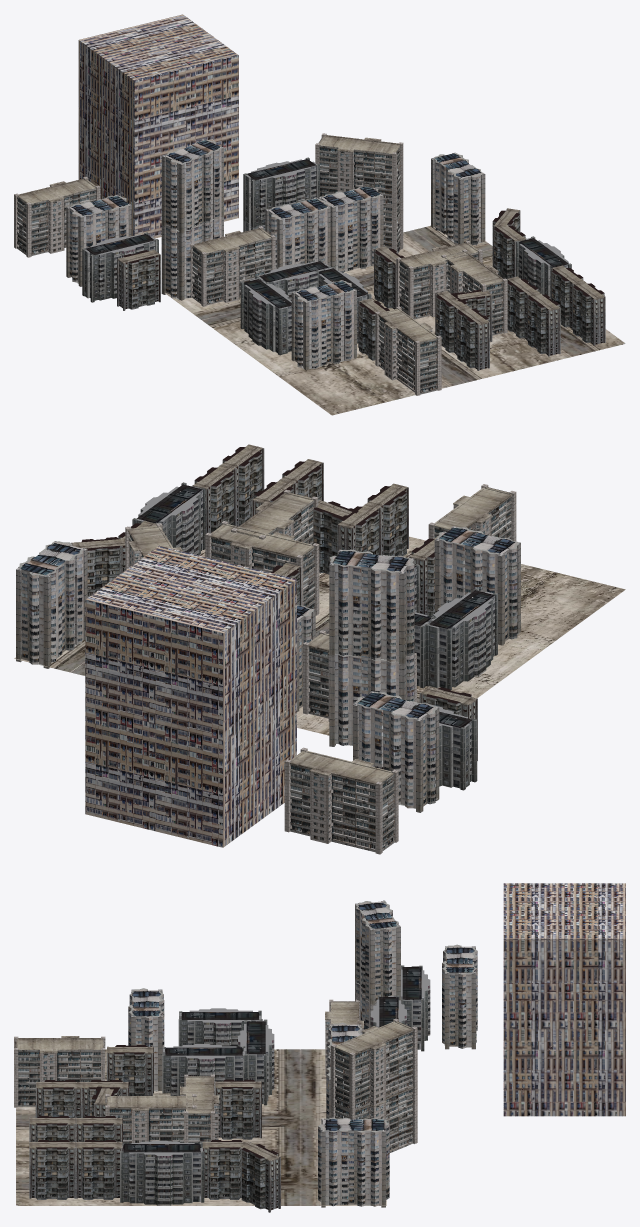
Rendered from street.fbx.
The picture shows the model from 3 angles, top to bottom: view 1: azimuth 30°, elevation 25°; view 2: azimuth 150°, elevation 25°; view 3: azimuth 270°, elevation 25°; orthographic projection. The views are drawn at different scales.
Parts seen in each view (by area): view 1: Plane.015, Plane.002, Plane.008, Plane.014, Cube.001, Cube.019, Cube.002, Plane.012, Cube.004, Plane.004, Plane.003, Plane.011 (+21 smaller); view 2: Plane.015, Cube.004, Plane.002, Plane.014, Plane.012, Plane, Plane.008, Plane.007, Plane.013, Cube.011, Plane.006, Cube.002 (+16 smaller); view 3: Plane.015, Plane.002, Plane.012, Cube.019, Plane.006, Cube.002, Plane.014, Plane, Cube.012, Plane.005, Cube.010, Cube.003 (+18 smaller).
Boxes of the visible parts, left/top/right/bottom form: Plane.015: left=78, top=14, right=238, bottom=238; Plane.002: left=165, top=225, right=625, bottom=415; Plane.008: left=291, top=280, right=356, bottom=370; Plane.014: left=161, top=139, right=223, bottom=234; Cube.001: left=190, top=226, right=275, bottom=306; Cube.019: left=315, top=133, right=403, bottom=207; Cube.002: left=375, top=306, right=441, bottom=395; Plane.012: left=431, top=152, right=485, bottom=245; Cube.004: left=14, top=176, right=100, bottom=257; Plane.004: left=318, top=186, right=383, bottom=272; Plane.003: left=265, top=197, right=330, bottom=268; Plane.011: left=243, top=157, right=319, bottom=227; Plane.015: left=85, top=545, right=296, bottom=847; Cube.004: left=284, top=747, right=398, bottom=854; Plane.002: left=14, top=536, right=625, bottom=735; Plane.014: left=329, top=549, right=414, bottom=664; Plane.012: left=16, top=541, right=87, bottom=668; Plane: left=353, top=691, right=439, bottom=812; Plane.008: left=434, top=526, right=520, bottom=645; Plane.007: left=424, top=588, right=497, bottom=690; Plane.013: left=329, top=649, right=414, bottom=746; Cube.011: left=205, top=521, right=319, bottom=615; Plane.006: left=132, top=482, right=205, bottom=555; Cube.002: left=428, top=484, right=516, bottom=541; Plane.015: left=503, top=883, right=625, bottom=1116; Plane.002: left=16, top=1049, right=386, bottom=1205; Plane.012: left=318, top=1117, right=389, bottom=1207; Cube.019: left=330, top=1018, right=417, bottom=1112; Plane.006: left=120, top=1140, right=204, bottom=1205; Cube.002: left=14, top=1036, right=105, bottom=1107; Plane.014: left=355, top=900, right=400, bottom=1005; Plane: left=442, top=944, right=477, bottom=1049; Cube.012: left=105, top=1093, right=196, bottom=1143; Plane.005: left=162, top=1044, right=246, bottom=1095; Cube.010: left=29, top=1140, right=76, bottom=1199; Cube.003: left=214, top=1079, right=261, bottom=1139.
Size of the model in its own units: 1808 by 778 by 2371.
Materials: 9 (9 with a texture image).
